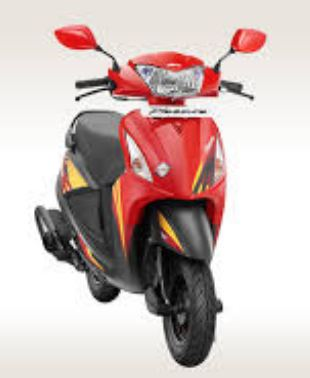bike: (31, 25, 267, 368)
